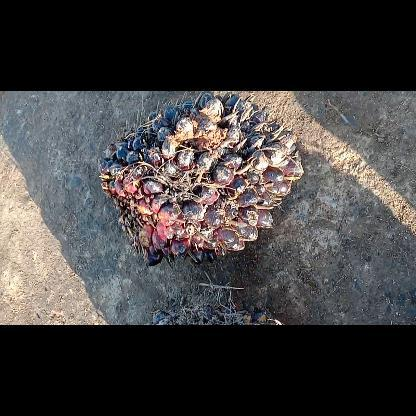TBS mentah: (96, 91, 310, 269)
